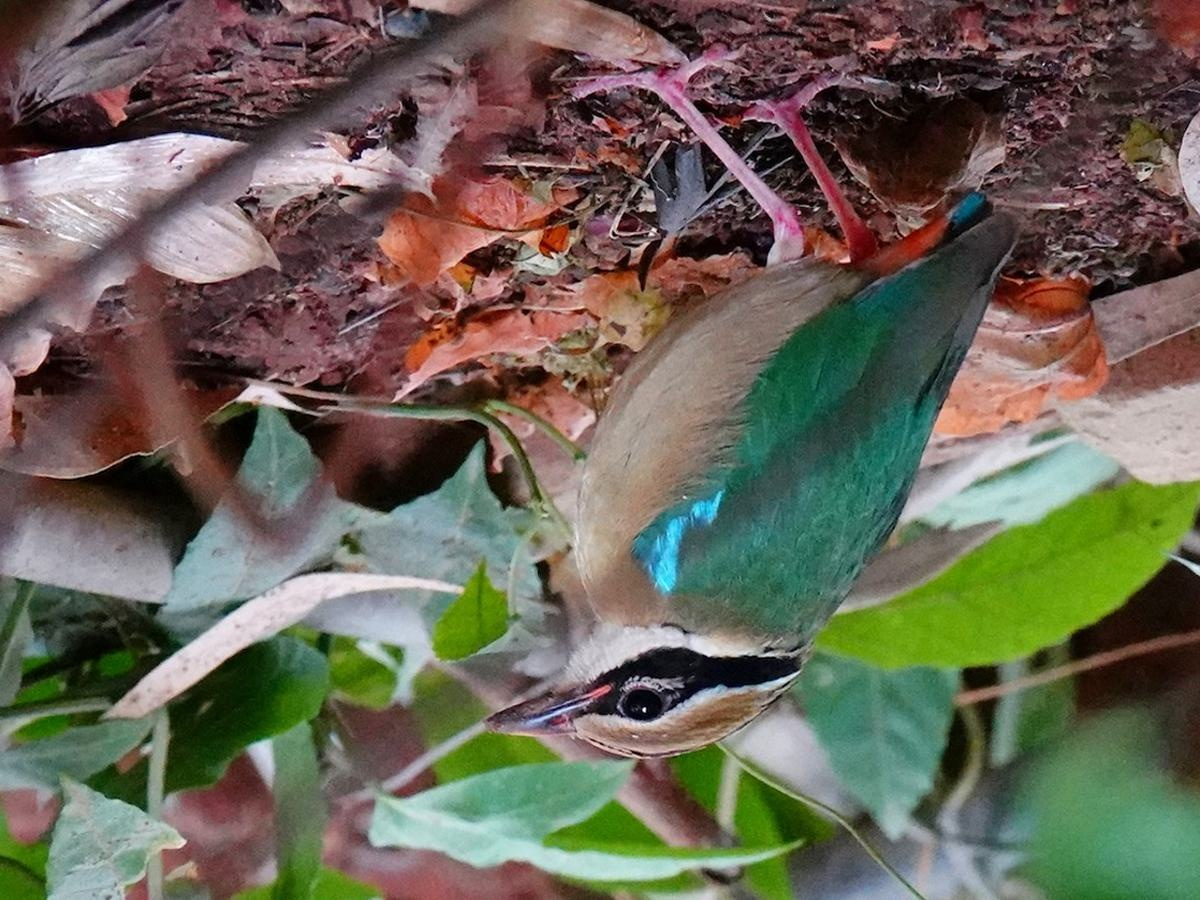pitta: (470, 124, 1040, 770)
